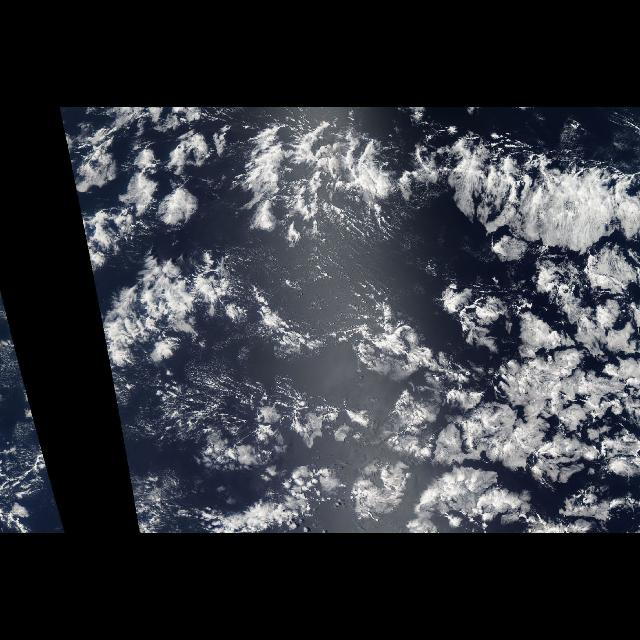Fish: (120, 111, 640, 359)
Flower: (59, 107, 639, 533)
Gravel: (152, 369, 350, 471)
